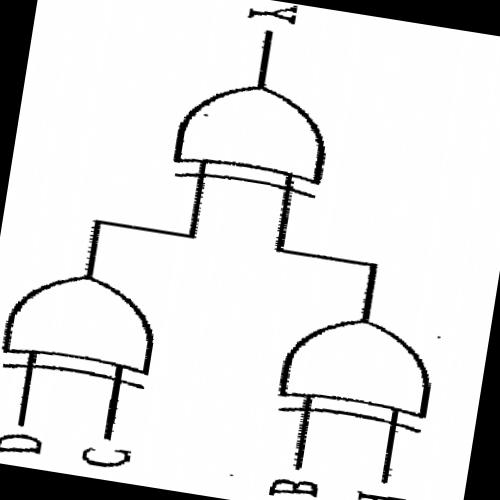xor: (159, 66, 347, 207), (263, 302, 448, 442), (0, 258, 171, 397)
